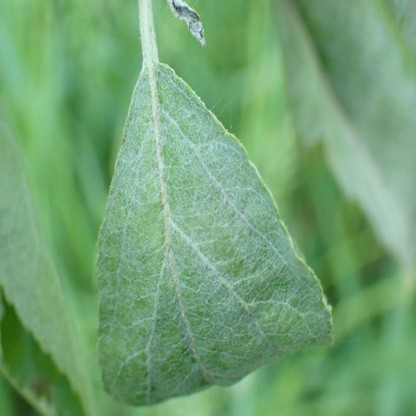powder: (96, 62, 333, 411), (168, 1, 205, 50)
